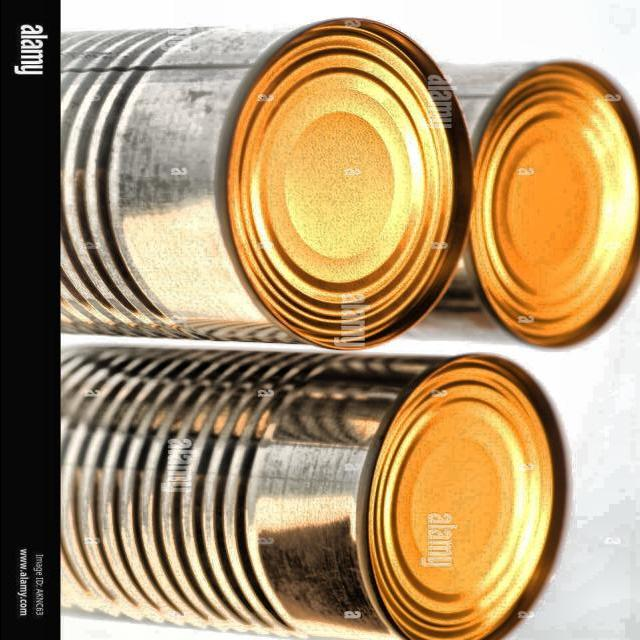litter: (58, 343, 573, 640), (56, 15, 481, 351), (363, 59, 640, 352)
